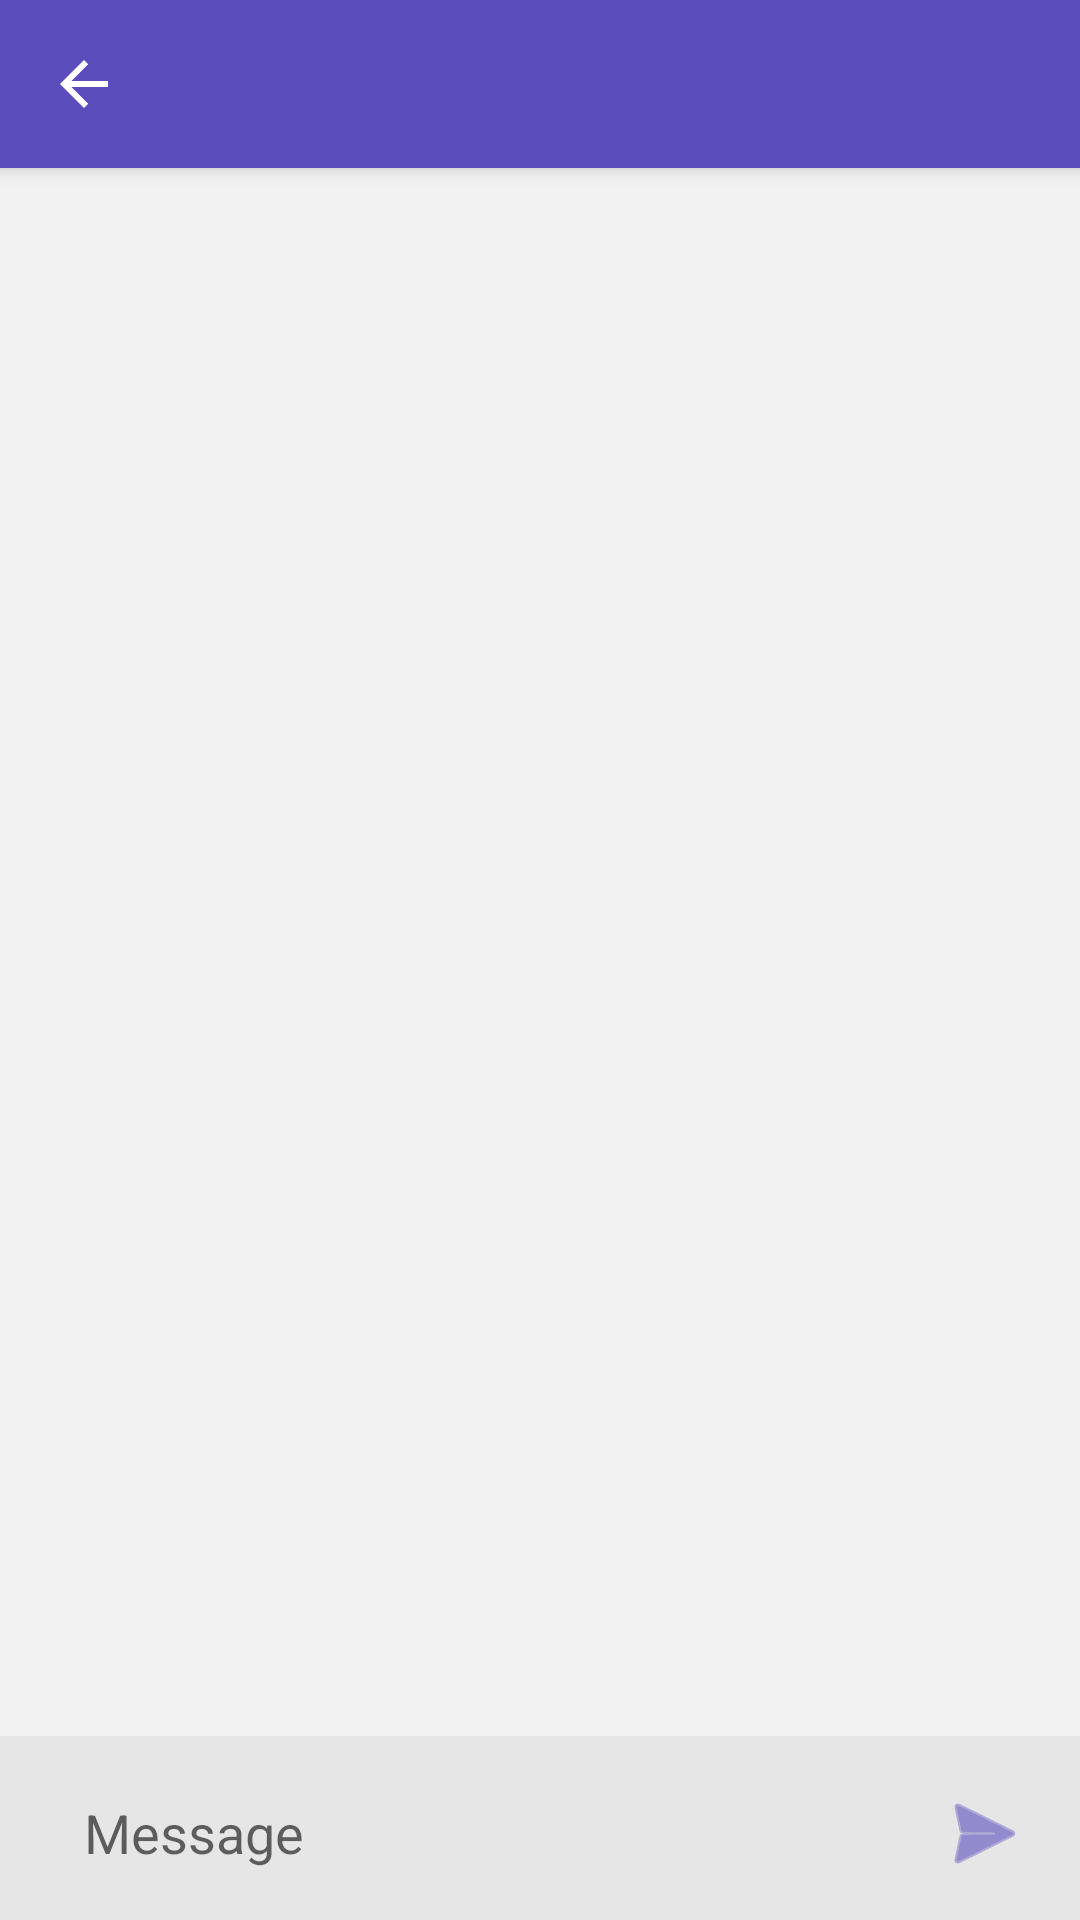

Icon bounding boxes for this 1080 x 1920 phone screenshot, format (left=x1, top=y1, right=x2, bottom=y2):
send: (left=954, top=1803, right=1015, bottom=1864)
